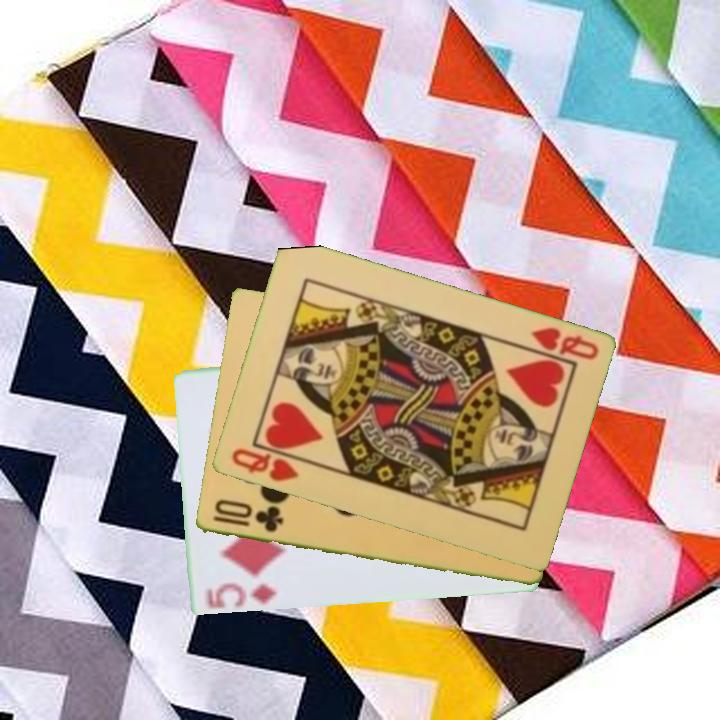10c: (208, 497, 286, 536)
5d: (203, 579, 280, 612)
Qh: (227, 445, 301, 485), (527, 324, 601, 364)
